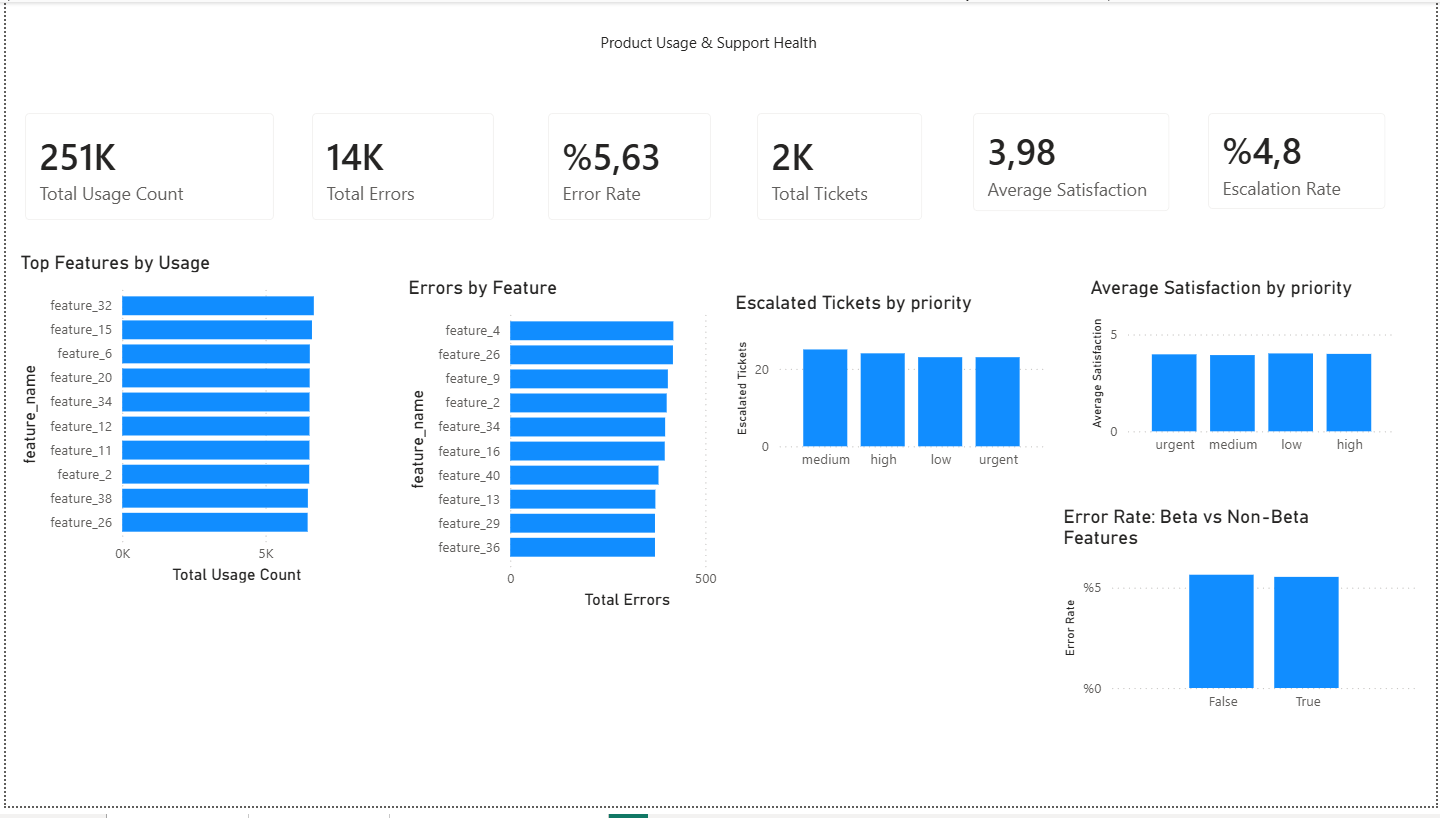

Layout of this report page (visuals, bound fields, positions):
{"tool":"powerbi","page":{"name":"Product Usage & Support Health","canvas":[1280,720],"ordinal":2},"visuals":[{"type":"cardVisual","fields":{"Data":["_Measures.Total Usage Count"]},"box":[0,82.7,257.3,130.5],"z":0},{"type":"cardVisual","fields":{"Data":["_Measures.Total Errors"]},"box":[257,82.4,197,130.7],"z":1000},{"type":"cardVisual","fields":{"Data":["_Measures.Error Rate"]},"box":[468.4,82.4,180,130.7],"z":2000},{"type":"cardVisual","fields":{"Data":["_Measures.Total Tickets"]},"box":[655.5,82.4,182.7,130.7],"z":3000},{"type":"cardVisual","fields":{"Data":["_Measures.Average Satisfaction"]},"box":[849,82.4,210.4,122.7],"z":4000},{"type":"cardVisual","fields":{"Data":["_Measures.Escalation Rate"]},"box":[1059.4,82.4,193.4,120.9],"z":5000},{"type":"barChart","title":"Top Features by Usage","fields":{"Category":["feature_usage.feature_name"],"Y":["_Measures.Total Usage Count"]},"box":[8.3,223.3,313.3,302.3],"z":6000},{"type":"barChart","title":"Errors by Feature","fields":{"Category":["feature_usage.feature_name"],"Y":["_Measures.Total Errors"]},"box":[355.6,245.3,320.7,302.3],"z":7000},{"type":"clusteredColumnChart","fields":{"Category":["support_tickets.priority"],"Y":["_Measures.Average Satisfaction"]},"box":[966.7,245.3,283.9,169.1],"z":8000},{"type":"clusteredColumnChart","fields":{"Category":["support_tickets.priority"],"Y":["_Measures.Escalated Tickets"]},"box":[648.7,259.1,286.7,169.1],"z":9000},{"type":"clusteredColumnChart","title":"Error Rate: Beta vs Non-Beta Features","fields":{"Category":["feature_usage.is_beta_feature"],"Y":["_Measures.Error Rate"]},"box":[941.9,450.3,328,193.9],"z":10000},{"type":"textbox","box":[527.5,22.4,219.4,60],"z":11000}]}

Visuals, with their boxes in screenshot pixels (x1, y1, x2, y2), scaled from the page's 1280x720 canvas onto the 1440x818 screenshot:
cardVisual - _Measures.Total Usage Count: locate(0, 94, 289, 242)
cardVisual - _Measures.Total Errors: locate(289, 94, 511, 242)
cardVisual - _Measures.Error Rate: locate(527, 94, 729, 242)
cardVisual - _Measures.Total Tickets: locate(737, 94, 943, 242)
cardVisual - _Measures.Average Satisfaction: locate(955, 94, 1192, 233)
cardVisual - _Measures.Escalation Rate: locate(1192, 94, 1409, 231)
"Top Features by Usage" barChart: locate(9, 254, 362, 597)
"Errors by Feature" barChart: locate(400, 279, 761, 622)
clusteredColumnChart - support_tickets.priority x _Measures.Average Satisfaction: locate(1088, 279, 1407, 471)
clusteredColumnChart - support_tickets.priority x _Measures.Escalated Tickets: locate(730, 294, 1052, 486)
"Error Rate: Beta vs Non-Beta Features" clusteredColumnChart: locate(1060, 512, 1429, 732)
textbox: locate(593, 25, 840, 94)
